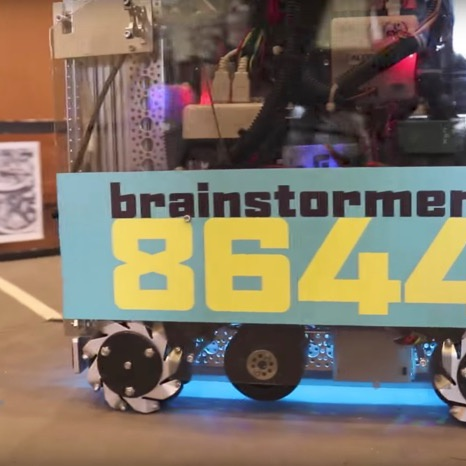robot: (45, 1, 466, 431)
